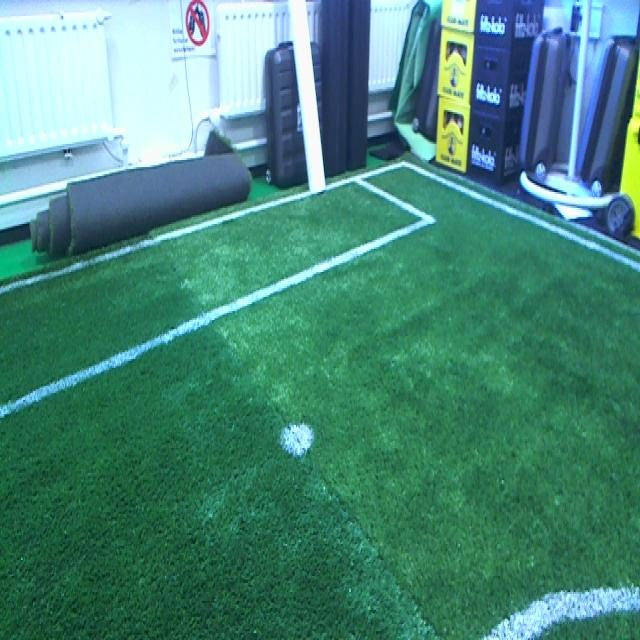goalpost: (287, 2, 332, 199)
